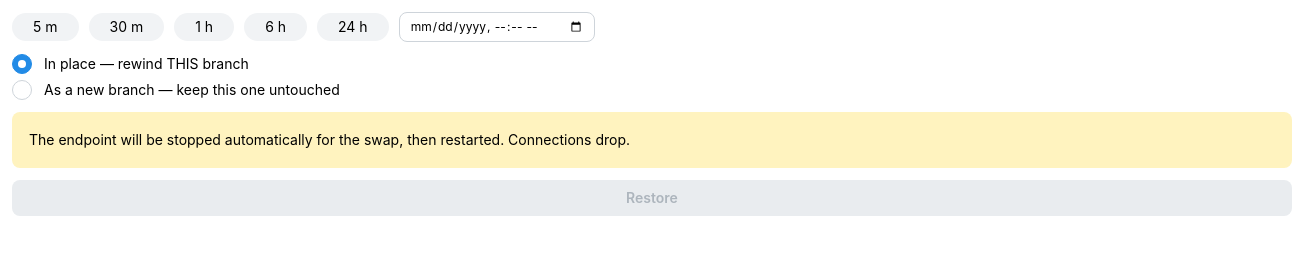
RestoreTab › new_branch mode: Restore stays disabled with a blank name, enables only once a name is entered
Click the radio button labelled "As a new branch — keep this one untouched" at (22, 90), box 12,80 -> 32,100
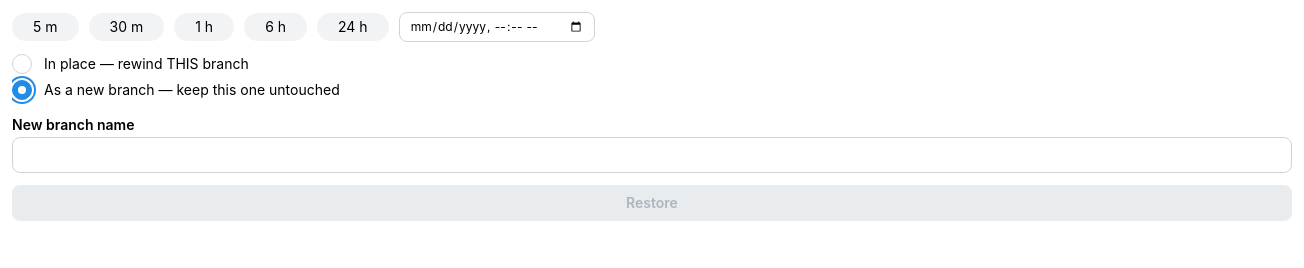
Click the checkbox labelled "30 m" at (126, 27), box 88,13 -> 164,41
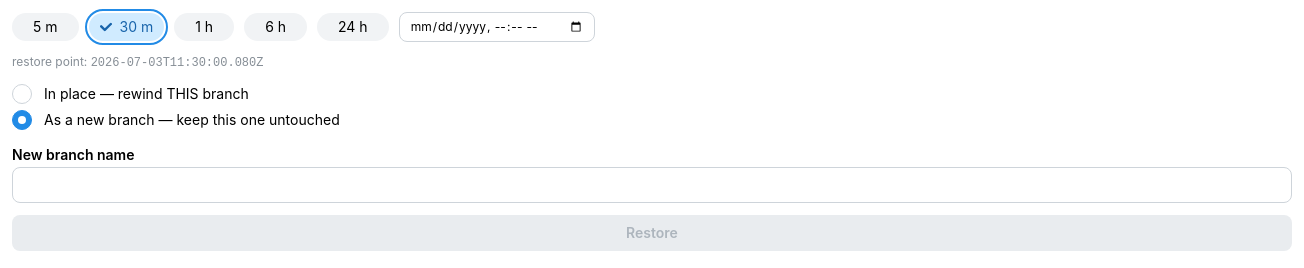
Check: the button "Restore" is disabled, box 12,215 -> 1292,251
Type "before-mistake" into the field labelled "New branch name" at (652, 185), box 12,167 -> 1292,203
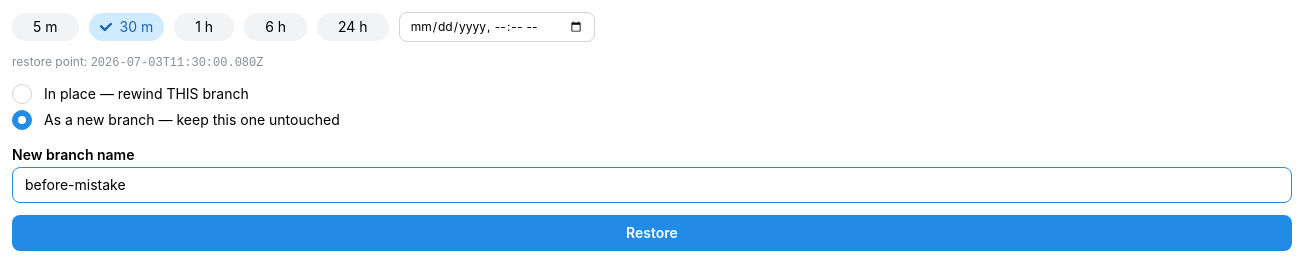
Check: the button "Restore" is enabled, box 12,215 -> 1292,251
